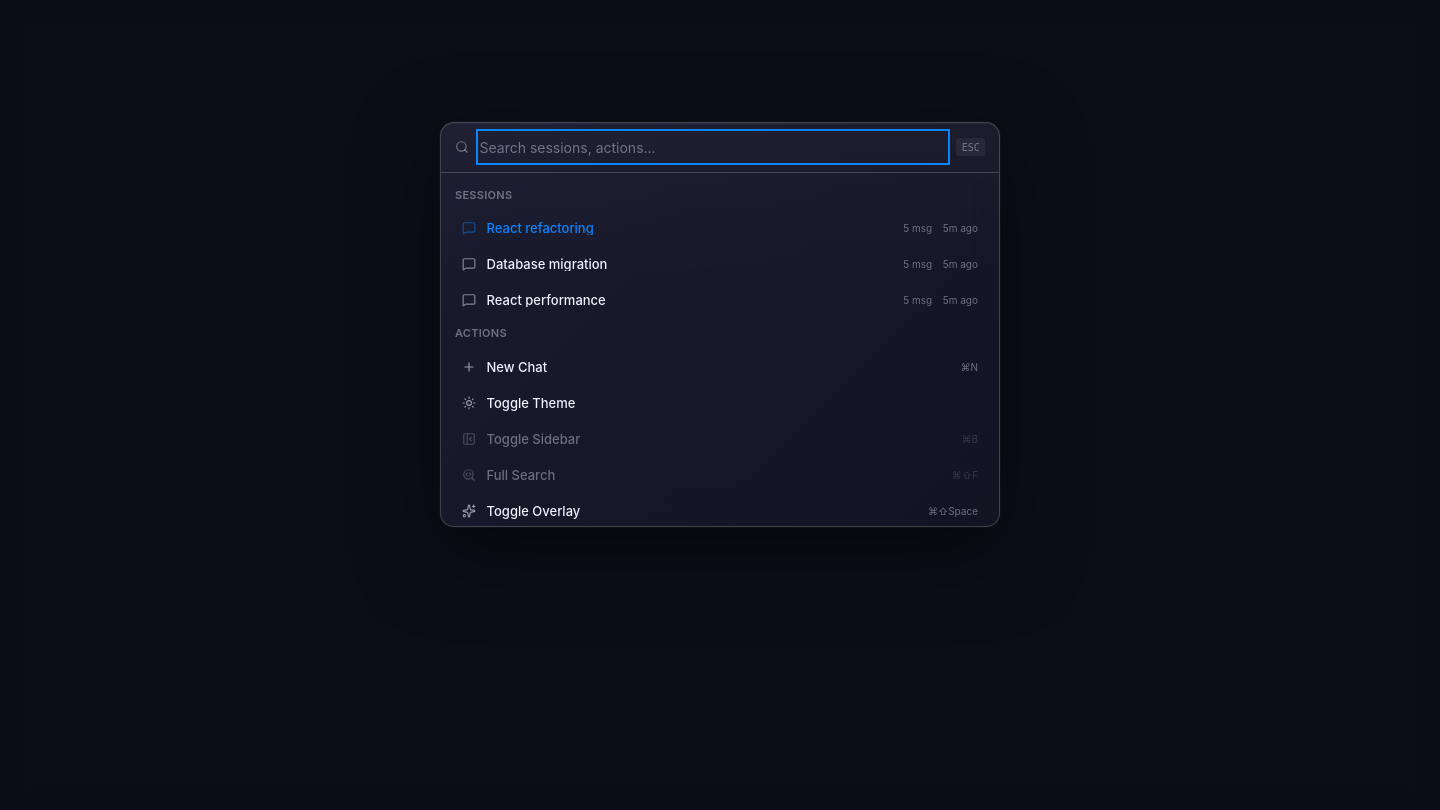
Test: Flow: Command Palette › search filters sessions by title
In the dropdown with placeholder "Search sessions, actions...": (713, 147) [480,133,946,161], type "react"
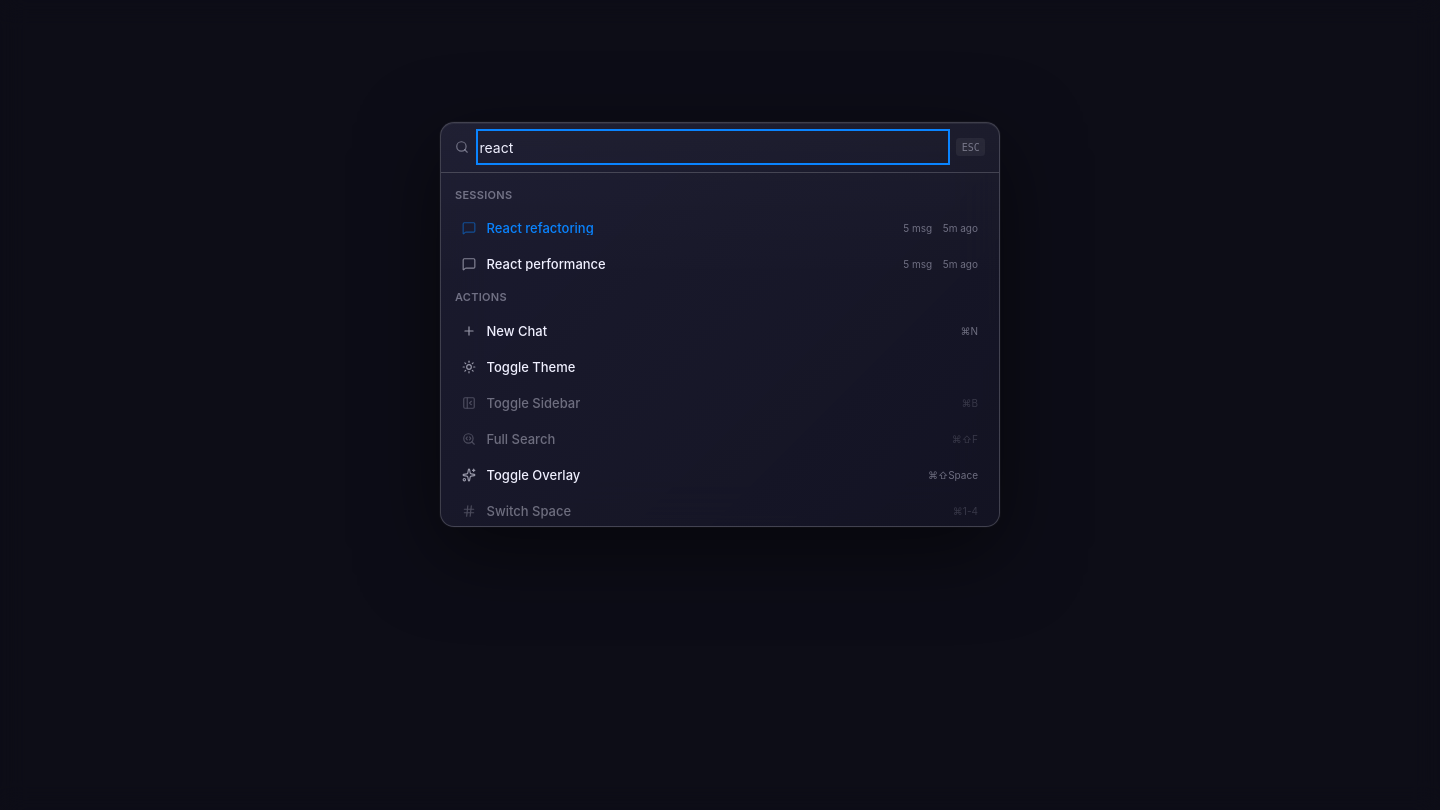
Expected: the text "React refactoring" is shown, [486,220,594,236]
Expected: the option "Database migration" is gone
